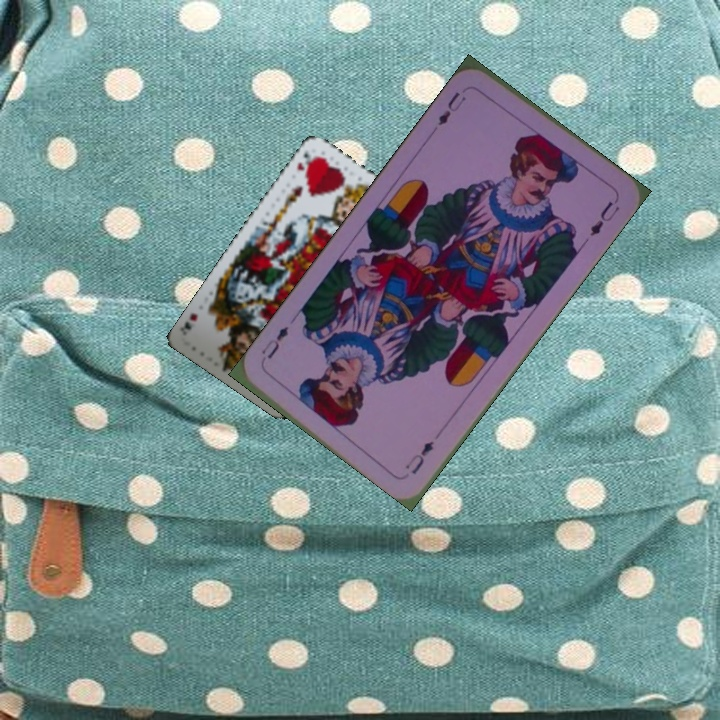EU: (433, 87, 469, 128), (401, 436, 436, 477)
HK: (292, 148, 318, 174)
